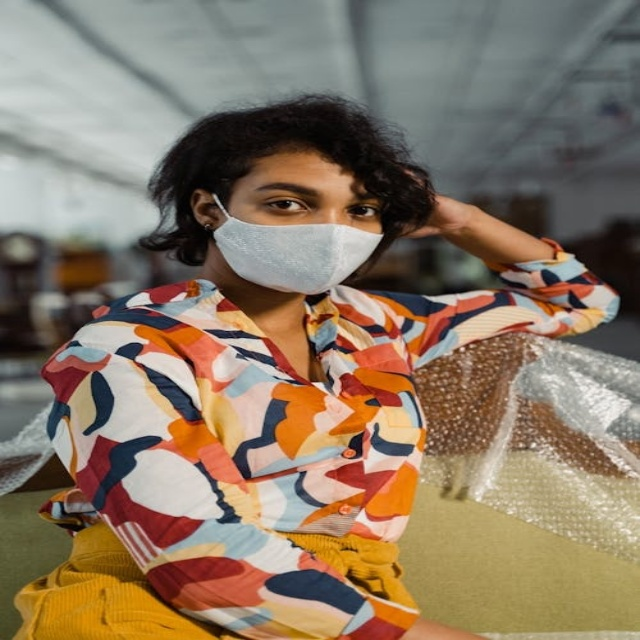Mascara: (208, 192, 385, 294)
Sin_gafas: (243, 183, 385, 223)
